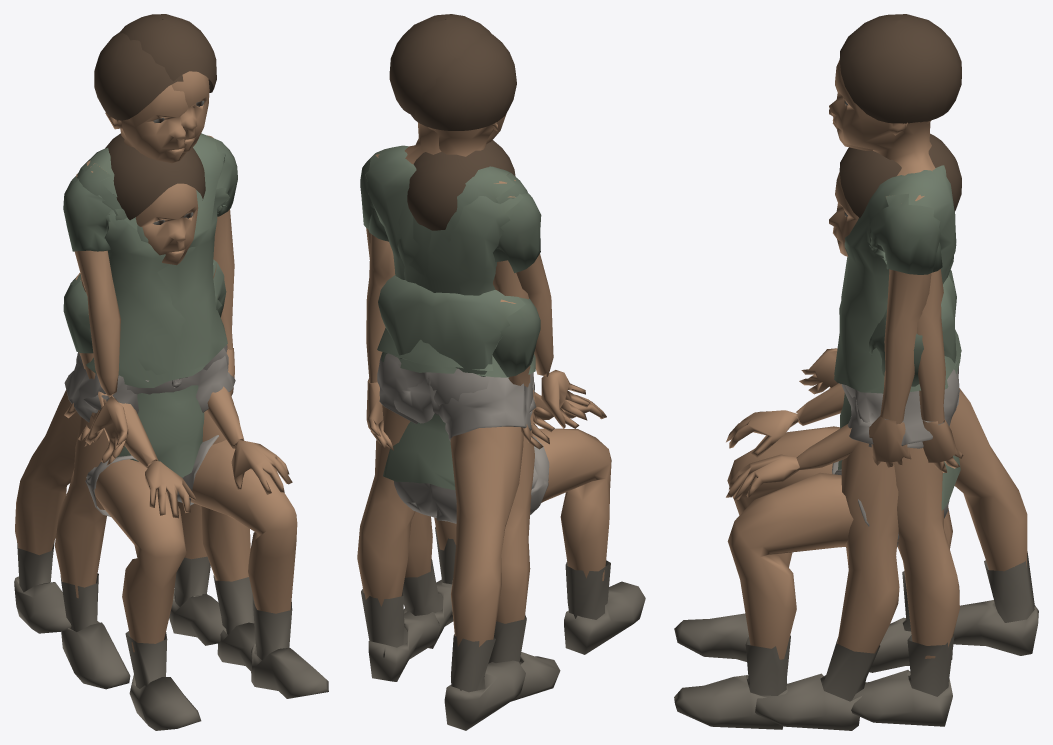
Rendered from crowd-07-crowd.glb.
The picture shows the model from 3 angles, left to right: view 1: azimuth 30°, elevation 25°; view 2: azimuth 150°, elevation 25°; view 3: azimuth 270°, elevation 25°; orthographic projection. The views are drawn at different scales.
Visible parts, largest first — view 1: seated, walking, standing; view 2: walking, seated, standing; view 3: standing, seated, walking.
Part boxes in pixels (x1,y1,x2,y2): seated: (63,133,328,730); walking: (14,32,256,671); standing: (54,14,237,689); walking: (366,33,590,730); seated: (378,140,645,654); standing: (357,14,560,701); standing: (829,14,961,726); seated: (674,133,961,729); walking: (755,20,1038,730).
Size of the model in its own units: 0.2903 by 1 by 0.4862.
